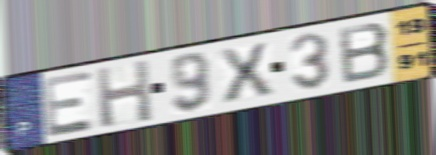3: (288, 30, 332, 94)
9: (167, 51, 214, 115)
B: (336, 20, 392, 87)
E: (41, 68, 96, 140)
H: (93, 57, 155, 131)
X: (215, 40, 278, 107)
